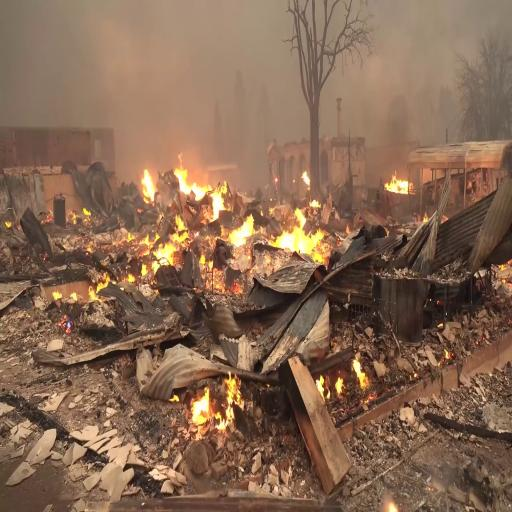fire: (145, 206, 192, 272), (282, 203, 328, 261), (196, 370, 240, 422), (174, 163, 207, 204), (236, 208, 260, 248)
